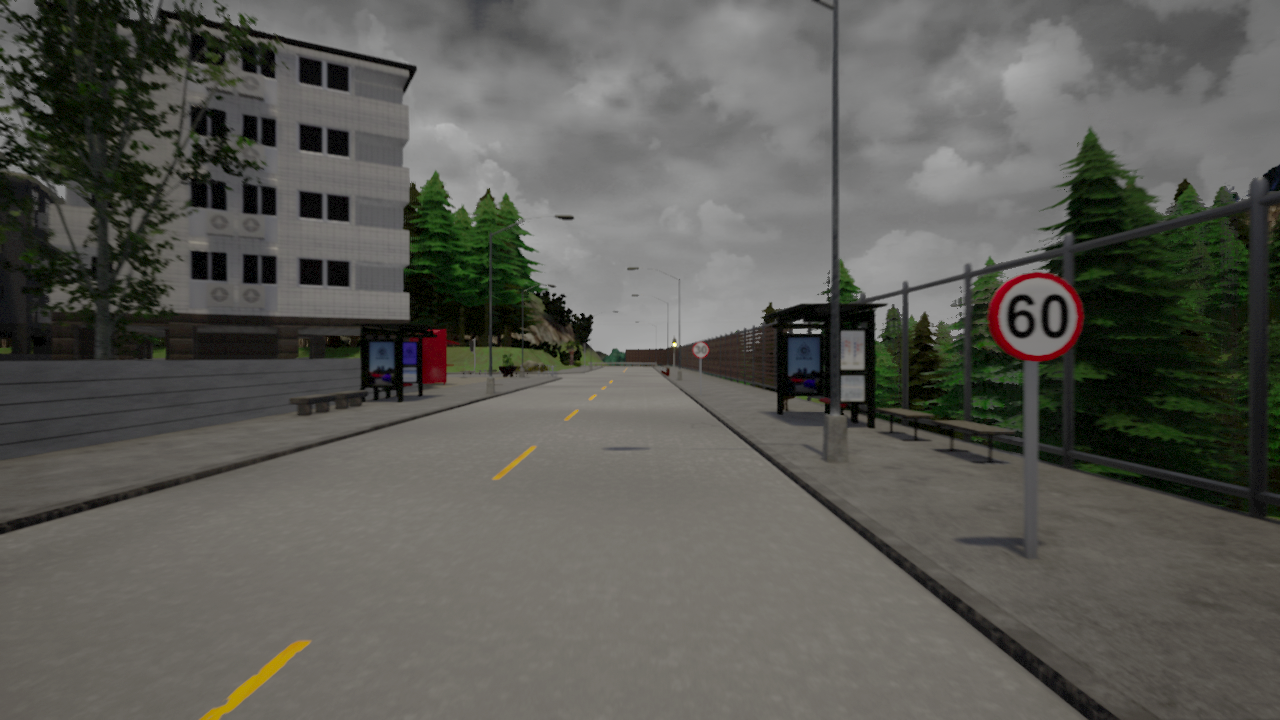yellow: (671, 338, 677, 352)
